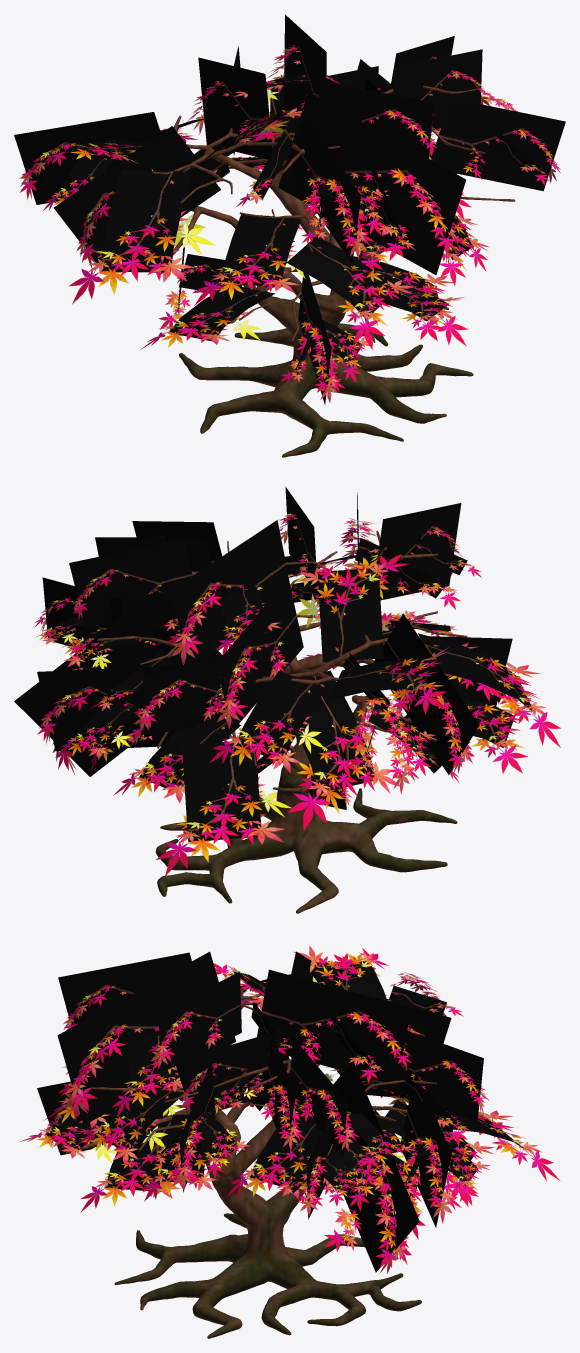
The model's file is japanese_maple_tree.glb.
3 renders of one model, top to bottom at view 1: azimuth 30°, elevation 25°; view 2: azimuth 150°, elevation 25°; view 3: azimuth 270°, elevation 25°, orthographic. The views are drawn at different scales.
Visible parts, largest first — view 1: Tree, Stick_061, Stick_015, Stick_047, Stick_053, Stick_027, Stick_052, Stick_038, Stick_018, Stick_040, Stick_058, Stick_065 (+15 smaller); view 2: Tree, Stick_030, Stick_037, Stick_032, Stick_056, Stick_012, Stick_052, Stick_053, Stick_057, Stick_039, Stick_018, Stick_046 (+19 smaller); view 3: Tree, Stick_030, Stick_061, Stick_056, Stick_038, Stick_039, Stick_018, Stick_024, Stick_012, Stick_037, Stick_033, Stick_063 (+22 smaller).
Boxes of the visible parts, x1,y1,x2,y2 form: Tree: (152,85,515,457); Stick_061: (278,92,465,274); Stick_015: (431,98,565,191); Stick_047: (101,170,192,272); Stick_053: (53,126,220,267); Stick_027: (14,112,160,204); Stick_052: (198,57,272,159); Stick_038: (318,81,433,158); Stick_018: (294,112,361,263); Stick_040: (393,49,482,129); Stick_058: (220,214,301,287); Stick_065: (286,236,394,317); Tree: (96,531,467,913); Stick_030: (172,520,290,664); Stick_037: (69,539,192,628); Stick_032: (182,741,261,841); Stick_056: (14,590,222,776); Stick_012: (37,665,195,751); Stick_052: (216,578,303,731); Stick_053: (373,613,479,774); Stick_057: (317,568,383,662); Stick_039: (143,655,226,737); Stick_018: (377,503,461,600); Stick_046: (297,670,374,792); Tree: (52,989,455,1338); Stick_030: (257,969,411,1085); Stick_061: (57,951,235,1125); Stick_056: (333,1061,419,1272); Stick_038: (158,972,241,1072); Stick_039: (384,1031,483,1122); Stick_018: (58,952,191,1025); Stick_024: (175,1030,290,1111); Stick_012: (400,1071,451,1227); Stick_037: (290,1038,347,1155); Stick_033: (249,1105,322,1185); Stick_063: (98,1088,180,1149).
Size of the model in its own units: 2.78 by 1.78 by 2.78.
Materials: 3 (3 with a texture image).
